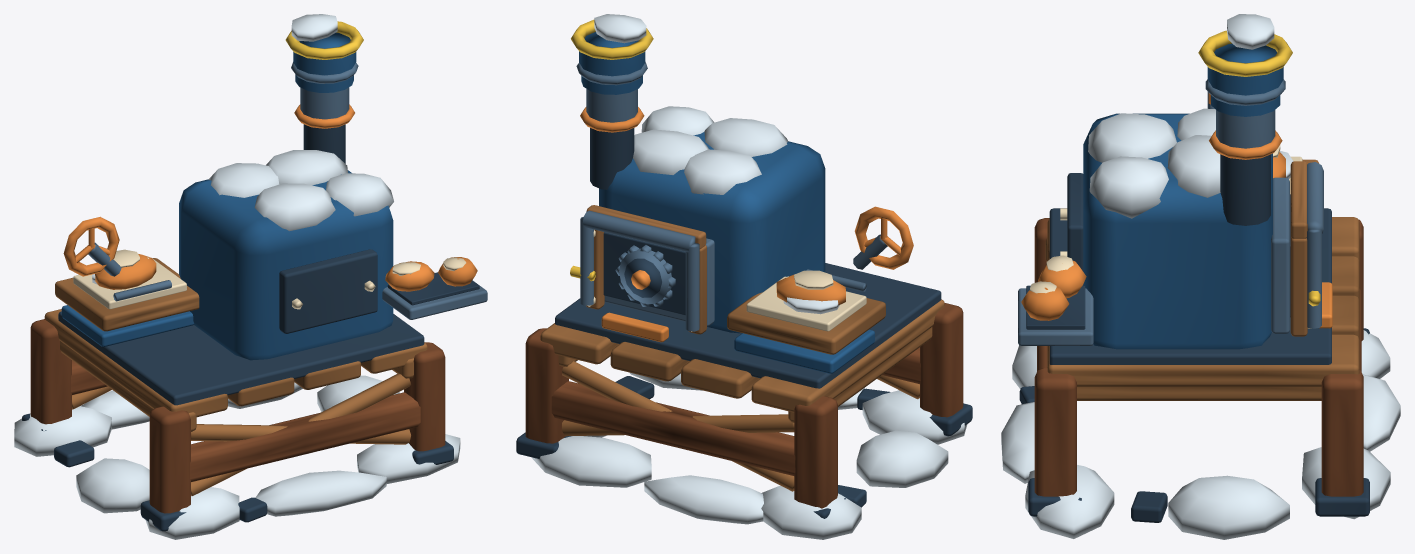
File: cooker_processor.glb
3 renders of one model, left to right at view 1: azimuth 30°, elevation 25°; view 2: azimuth 150°, elevation 25°; view 3: azimuth 270°, elevation 25°, orthographic. The views are drawn at different scales.
Visible parts, largest first — view 1: cooker_processor; view 2: cooker_processor; view 3: cooker_processor.
Boxes of the visible parts, x1,y1,x2,y2 form: cooker_processor: (14,14,487,539); cooker_processor: (516,14,972,539); cooker_processor: (1001,14,1400,539).
Bounding box in the file's own units: 2.27 × 2.54 × 1.89.
